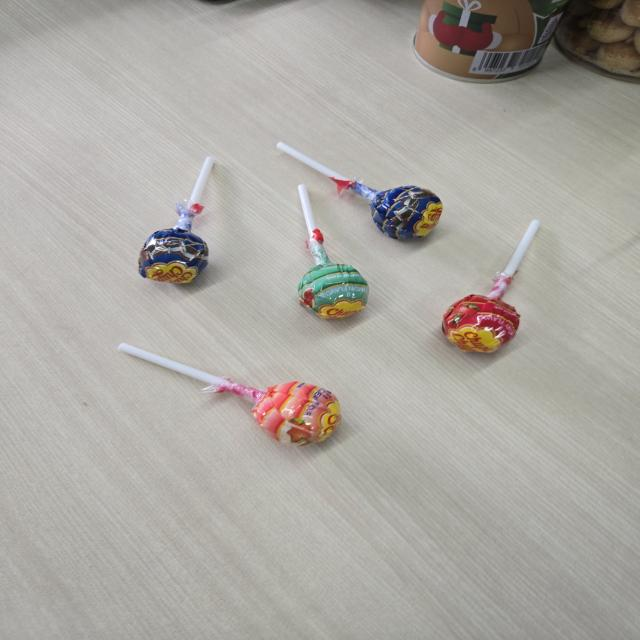lollipop: (115, 340, 342, 450), (272, 136, 448, 243), (442, 218, 544, 360), (133, 154, 223, 290), (292, 183, 374, 324)
